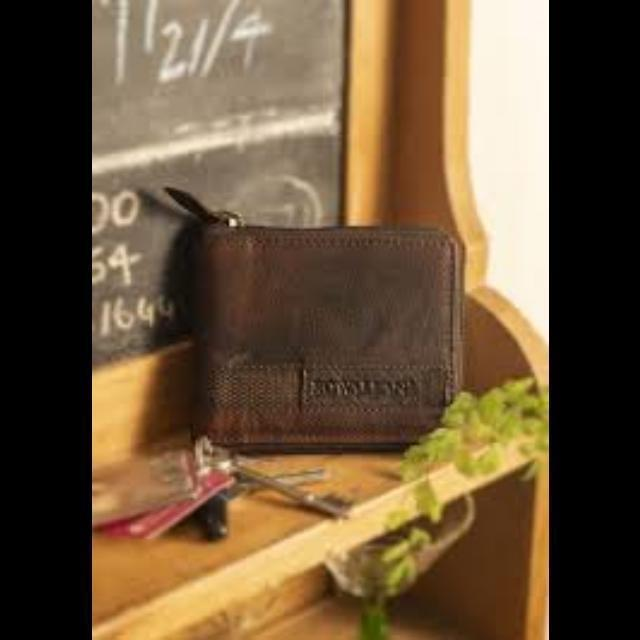Wallet: (192, 210, 472, 456)
